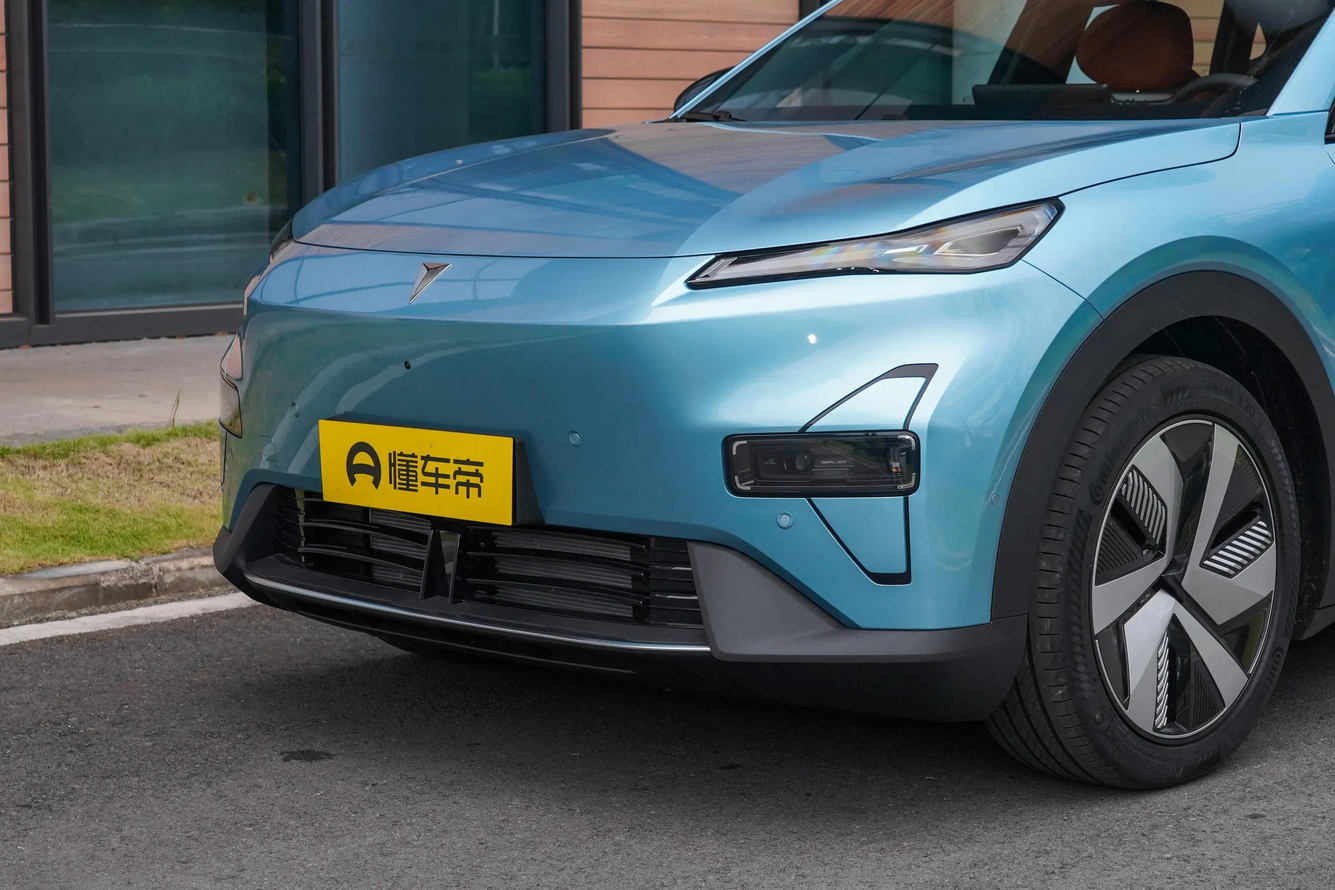Deepal: (408, 262, 451, 304)
